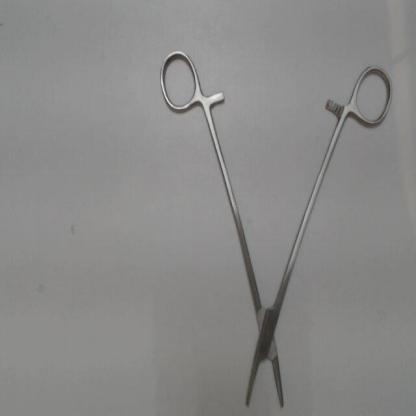8 Mayo Needle Holder: (148, 44, 408, 415)
